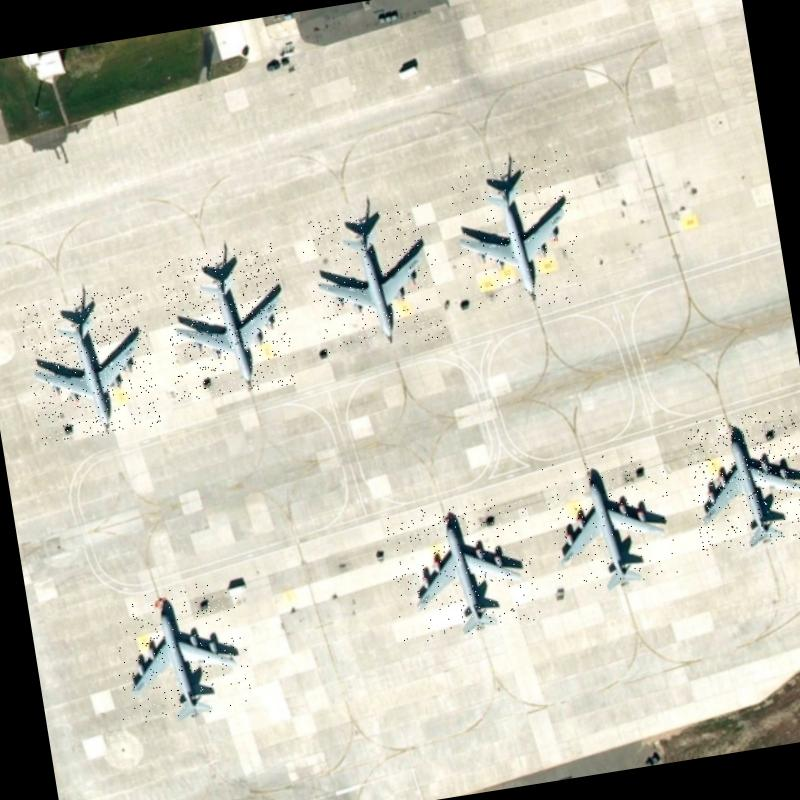A14: (444, 148, 590, 318), (382, 492, 544, 644), (298, 198, 447, 358), (16, 284, 162, 445), (155, 242, 298, 401), (103, 577, 256, 725), (540, 444, 682, 594), (681, 405, 800, 556)
